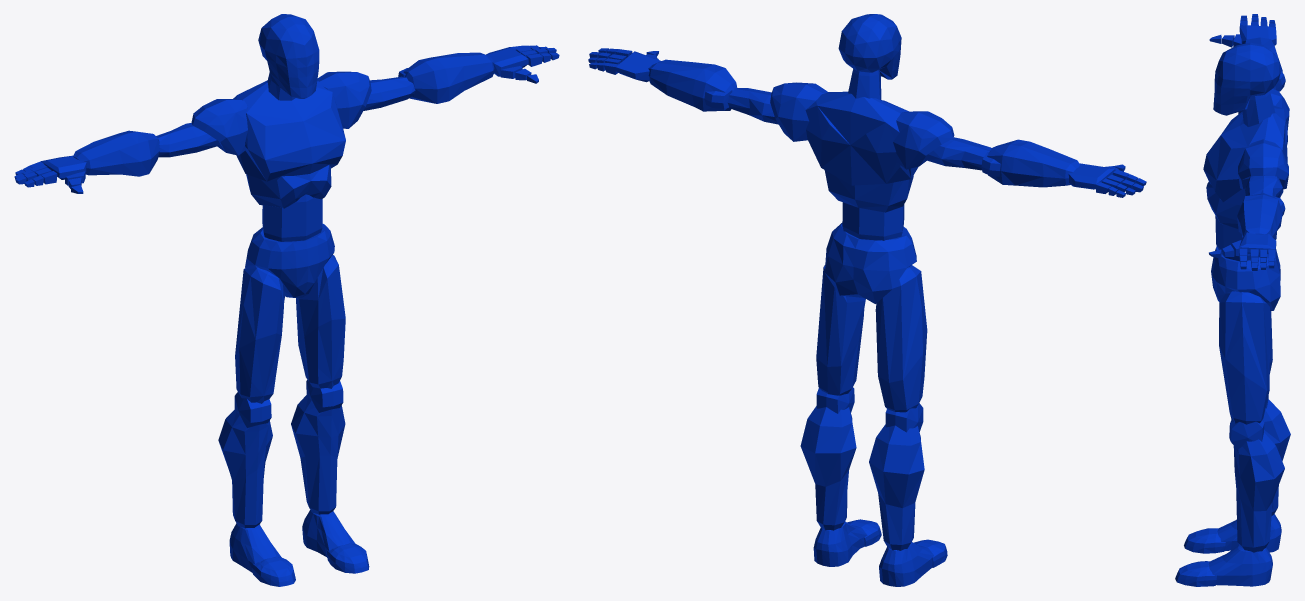
The model's file is BasicCriypticman.obj.
The picture shows the model from 3 angles, left to right: view 1: azimuth 30°, elevation 25°; view 2: azimuth 150°, elevation 25°; view 3: azimuth 270°, elevation 25°; orthographic projection. The views are drawn at different scales.
Visible parts, largest first — view 1: Mesh_Chest_Hero1, Mesh_RuLeg_Hero1, Mesh_LuLeg_Hero1, Mesh_LlLeg_Hero1, Mesh_RlLeg_Hero1, Mesh_Head_Hero1, Mesh_Hips_Hero1, Mesh_LlArm_Hero1, Mesh_RlArm_Hero1, Mesh_Waist_Hero1, Mesh_Rdelt_Hero1, Mesh_Ribs_Hero1 (+10 smaller); view 2: Mesh_Chest_Hero1, Mesh_RuLeg_Hero1, Mesh_RlLeg_Hero1, Mesh_Hips_Hero1, Mesh_LlLeg_Hero1, Mesh_LuLeg_Hero1, Mesh_Head_Hero1, Mesh_RlArm_Hero1, Mesh_LlArm_Hero1, Mesh_Rdelt_Hero1, Mesh_Ldelt_Hero1, Mesh_Ribs_Hero1 (+9 smaller); view 3: Mesh_LuLeg_Hero1, Mesh_LlLeg_Hero1, Mesh_Chest_Hero1, Mesh_Head_Hero1, Mesh_Hips_Hero1, Mesh_Lfoot_Hero1, Mesh_Ldelt_Hero1, Mesh_LlArm_Hero1, Mesh_RlLeg_Hero1, Mesh_Ltoes_Hero1, Mesh_Rfoot_Hero1, Mesh_Rtoes_Hero1 (+9 smaller).
Boxes of the visible parts, x1,y1,x2,y2 form: Mesh_Chest_Hero1: [233, 80, 345, 181]; Mesh_RuLeg_Hero1: [235, 265, 284, 403]; Mesh_LuLeg_Hero1: [296, 255, 345, 388]; Mesh_LlLeg_Hero1: [291, 394, 345, 514]; Mesh_RlLeg_Hero1: [218, 409, 272, 528]; Mesh_Head_Hero1: [258, 14, 319, 98]; Mesh_Hips_Hero1: [245, 223, 334, 298]; Mesh_LlArm_Hero1: [403, 52, 494, 103]; Mesh_RlArm_Hero1: [73, 130, 159, 176]; Mesh_Waist_Hero1: [262, 194, 322, 241]; Mesh_Rdelt_Hero1: [191, 99, 247, 155]; Mesh_Ribs_Hero1: [246, 165, 331, 208]; Mesh_Chest_Hero1: [805, 91, 918, 185]; Mesh_RuLeg_Hero1: [875, 265, 927, 412]; Mesh_RlLeg_Hero1: [869, 424, 924, 550]; Mesh_Hips_Hero1: [824, 223, 916, 303]; Mesh_LlLeg_Hero1: [800, 406, 856, 530]; Mesh_LuLeg_Hero1: [816, 265, 865, 395]; Mesh_Head_Hero1: [838, 14, 901, 79]; Mesh_RlArm_Hero1: [987, 139, 1079, 187]; Mesh_LlArm_Hero1: [648, 59, 737, 111]; Mesh_Rdelt_Hero1: [893, 111, 954, 169]; Mesh_Ldelt_Hero1: [770, 82, 827, 141]; Mesh_Ribs_Hero1: [824, 170, 913, 212]; Mesh_LuLeg_Hero1: [1219, 291, 1269, 424]; Mesh_LlLeg_Hero1: [1233, 432, 1284, 552]; Mesh_Chest_Hero1: [1203, 105, 1287, 205]; Mesh_Head_Hero1: [1213, 42, 1280, 115]; Mesh_Hips_Hero1: [1211, 246, 1280, 310]; Mesh_Lfoot_Hero1: [1208, 545, 1272, 586]; Mesh_Ldelt_Hero1: [1238, 139, 1288, 189]; Mesh_LlArm_Hero1: [1237, 193, 1282, 239]; Mesh_RlLeg_Hero1: [1263, 399, 1290, 516]; Mesh_Ltoes_Hero1: [1175, 561, 1216, 586]; Mesh_Rfoot_Hero1: [1217, 514, 1281, 552]; Mesh_Rtoes_Hero1: [1184, 528, 1225, 553].
Size of the model in its own units: 6.51 by 6.19 by 1.25.
